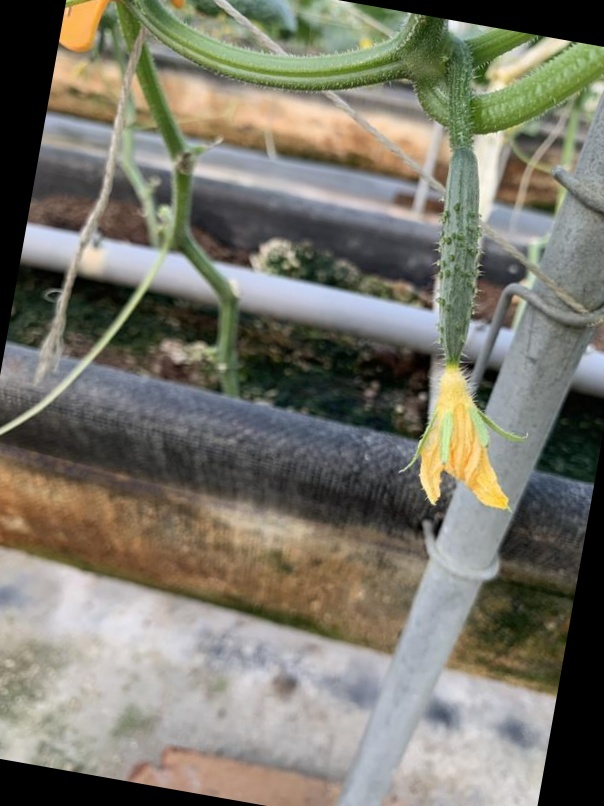bear: (388, 137, 540, 508)
